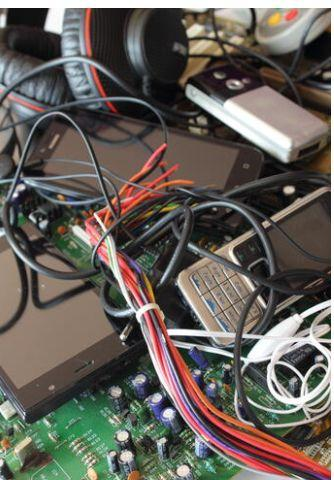electronic: (3, 340, 265, 479), (15, 112, 260, 218), (1, 232, 137, 422), (176, 188, 329, 344), (185, 64, 327, 162)
